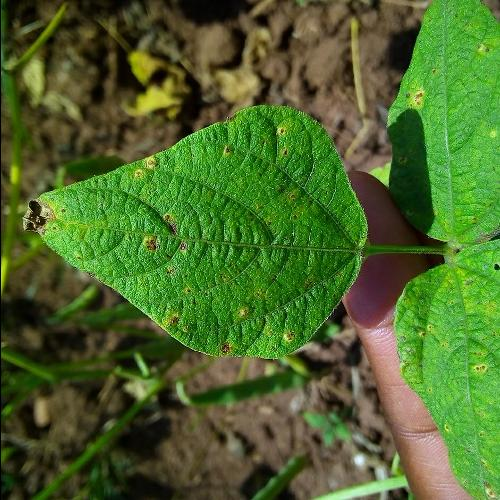hawar: (145, 292, 297, 363), (129, 194, 220, 286), (11, 174, 83, 236), (116, 138, 201, 183)
